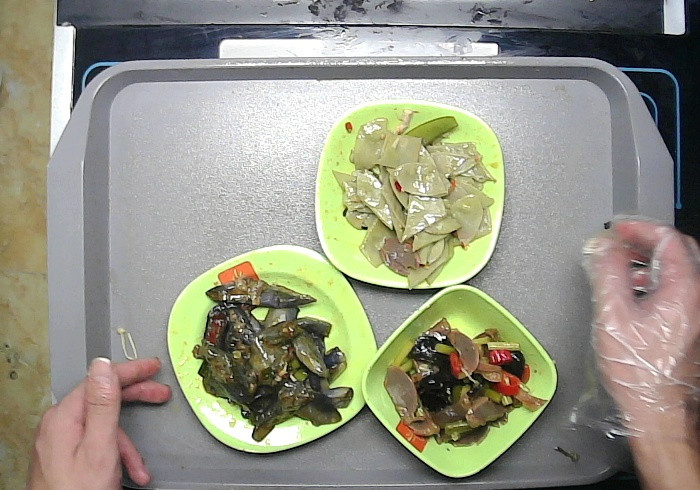SHKJ-Lv_Se_Cai_Die: (312, 95, 507, 292)
SHKJ-Lv_Se_Si_Fang_Cai_Die: (166, 242, 379, 455)
SHKJ-Lv_Se_Xiao_Fang_Die: (360, 283, 559, 479)
